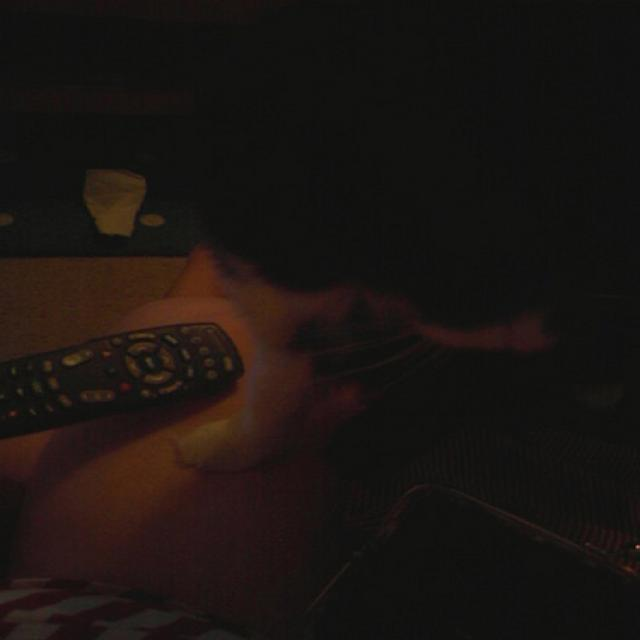Cat: (104, 244, 453, 627)
